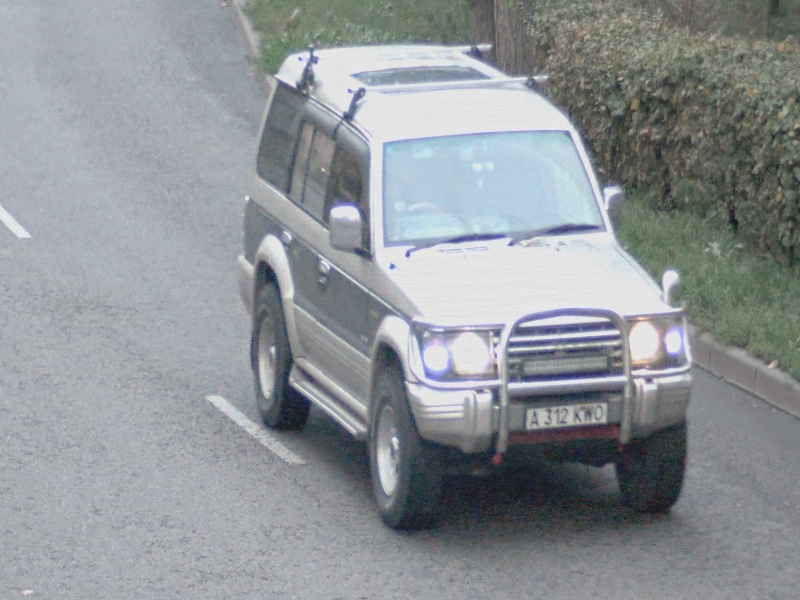plate: (523, 402, 610, 433)
